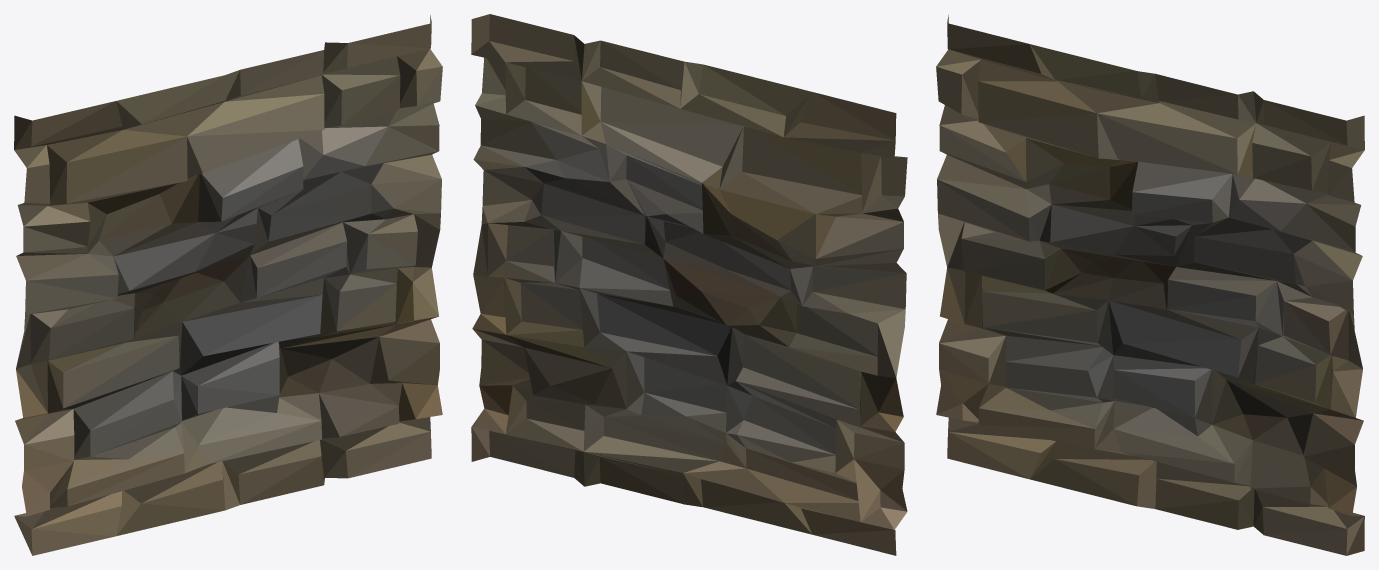
The model's file is Wall_UG-StoneD.fbx.
3 views of the same model, side by side, from view 1: azimuth 30°, elevation 25°; view 2: azimuth 150°, elevation 25°; view 3: azimuth 330°, elevation 25° (orthographic).
Visible parts, largest first — view 1: Wall_UG-StoneD; view 2: Wall_UG-StoneD; view 3: Wall_UG-StoneD.
Boxes of the visible parts, x1,y1,x2,y2 form: Wall_UG-StoneD: [14, 15, 442, 555]; Wall_UG-StoneD: [471, 14, 907, 555]; Wall_UG-StoneD: [936, 15, 1364, 555].
Bounding box in the file's own units: 400 × 400 × 40.66.
